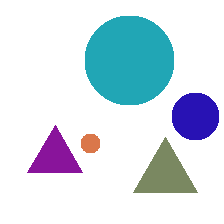circle: (85, 16, 173, 104), (172, 93, 218, 139), (81, 134, 99, 152)
triangle: (133, 137, 197, 192), (27, 125, 82, 172)
